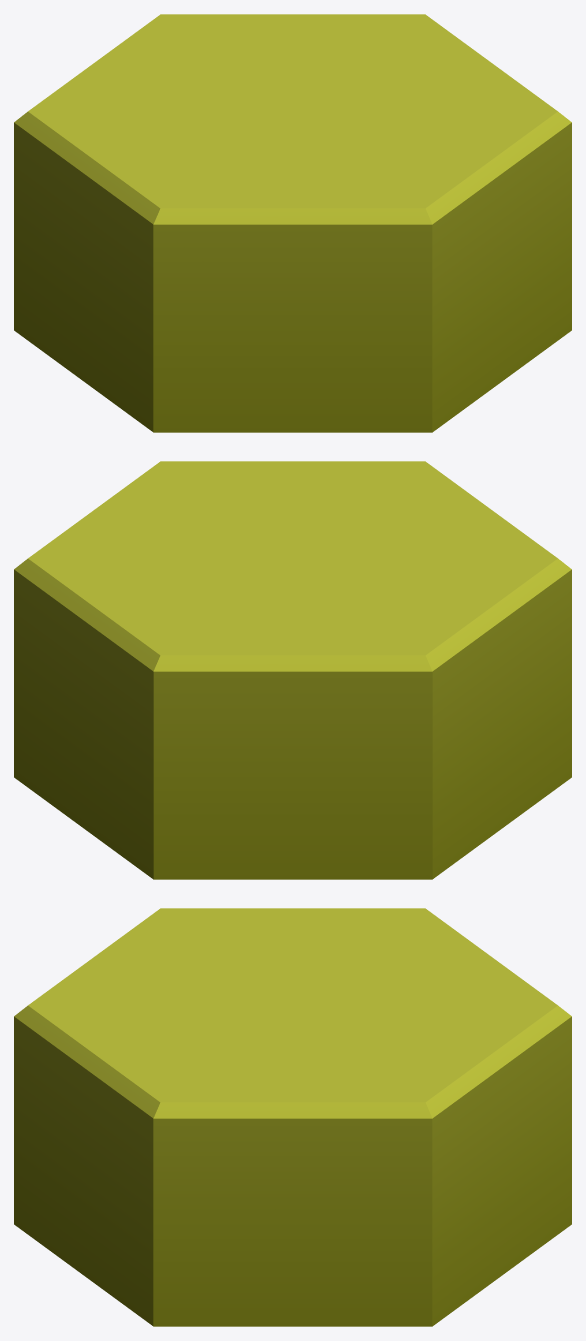
The model's file is terrain-grass.glb.
3 renders of one model, top to bottom at view 1: azimuth 30°, elevation 25°; view 2: azimuth 150°, elevation 25°; view 3: azimuth 270°, elevation 25°, orthographic.
Visible parts, largest first — view 1: hex_grass; view 2: hex_grass; view 3: hex_grass.
Part boxes in pixels (x1,y1,x2,y2): hex_grass: (14, 14, 571, 432); hex_grass: (14, 461, 571, 879); hex_grass: (14, 908, 571, 1326).
Size of the model in its own units: 2 by 1 by 2.31.
Materials: 1 (1 with a texture image).
